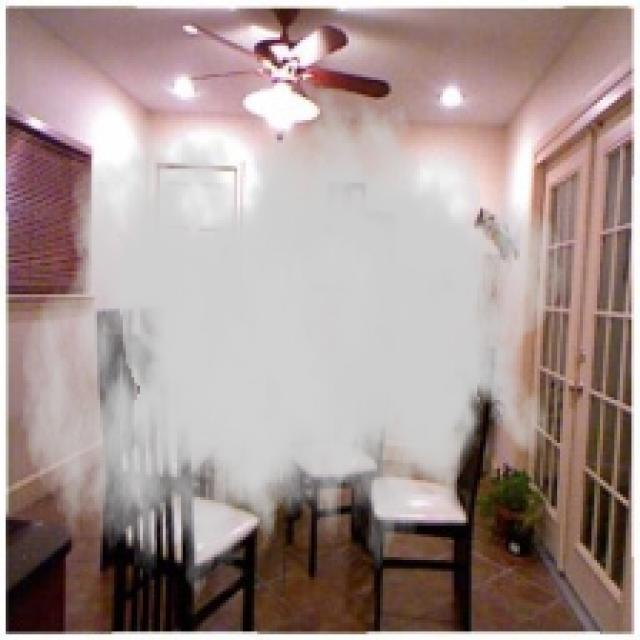Smoke: (20, 77, 566, 626)
